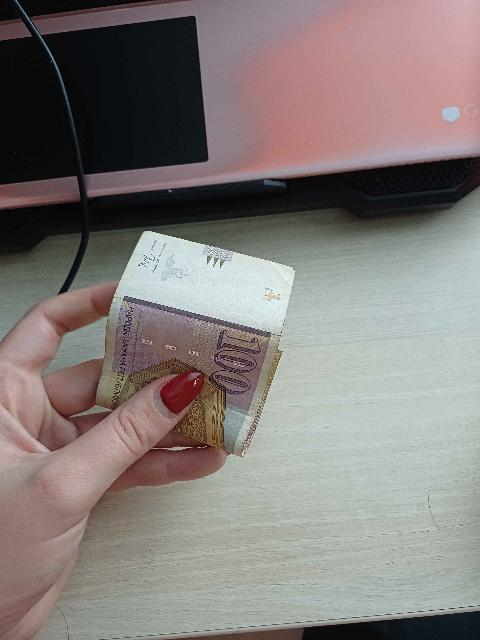100_note: (97, 232, 294, 455)
